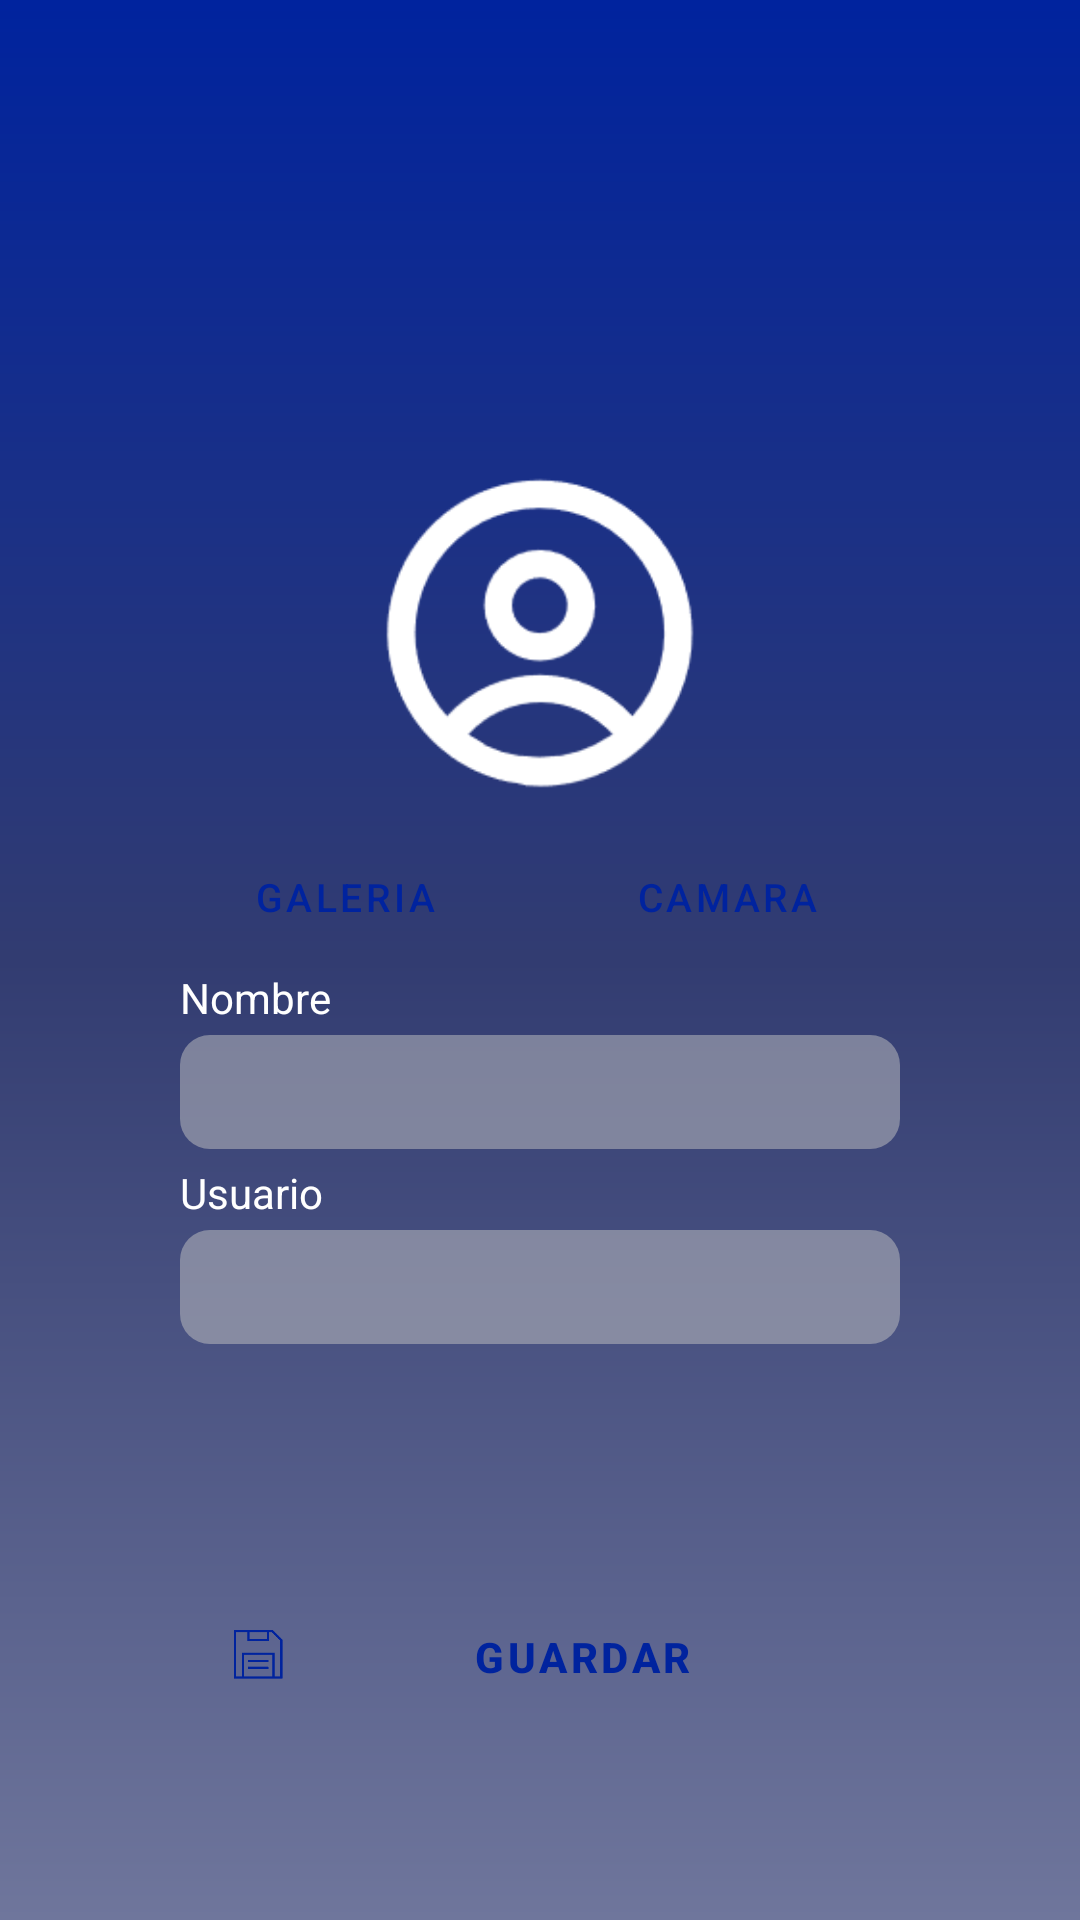

Icons on this 1080w x 1920h Android screen, each with the point to tap as (x=x, y=y):
profile: (x=540, y=619)
